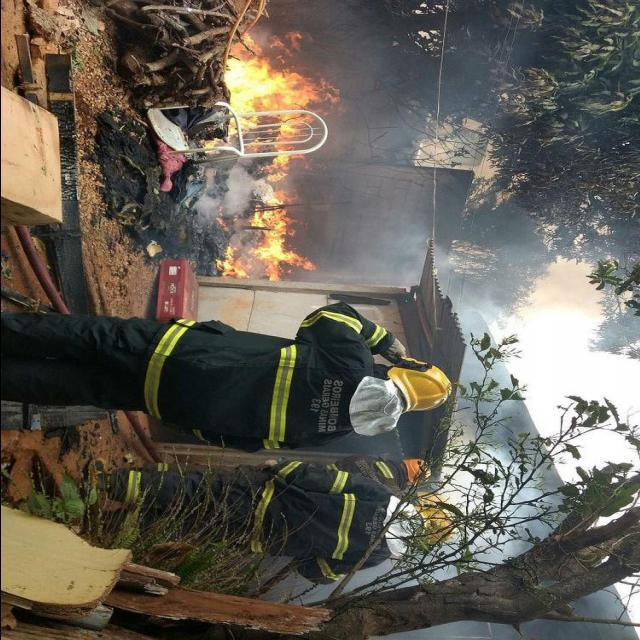Fire: (193, 29, 344, 175), (212, 178, 320, 286)
